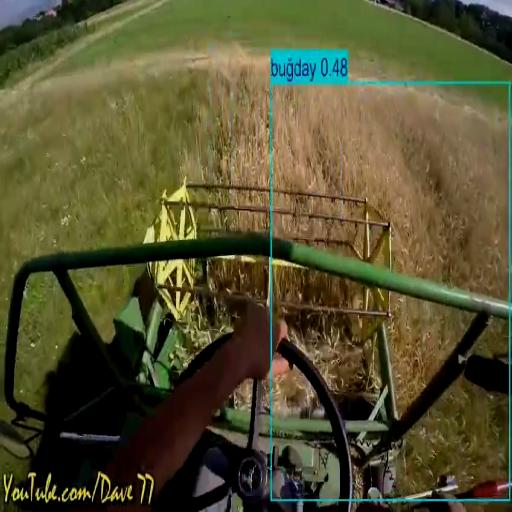bugday: (272, 86, 507, 297), (214, 63, 270, 185)
